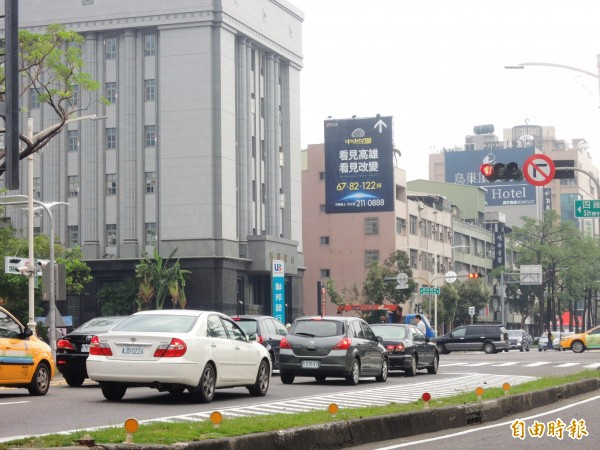No_right_turn: (523, 154, 555, 186)
